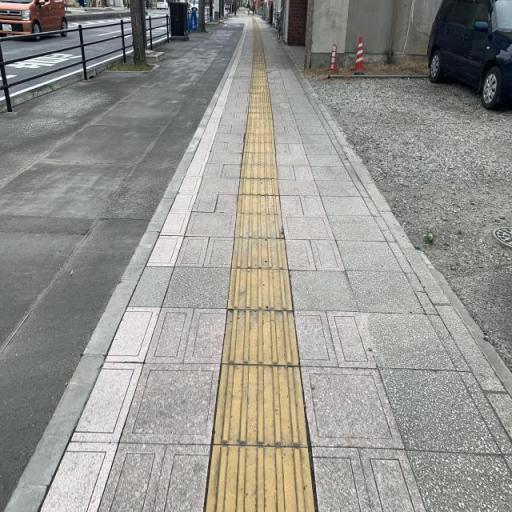line: (213, 364, 308, 448), (206, 444, 315, 511), (221, 309, 299, 365), (227, 268, 292, 311), (231, 237, 287, 270)
